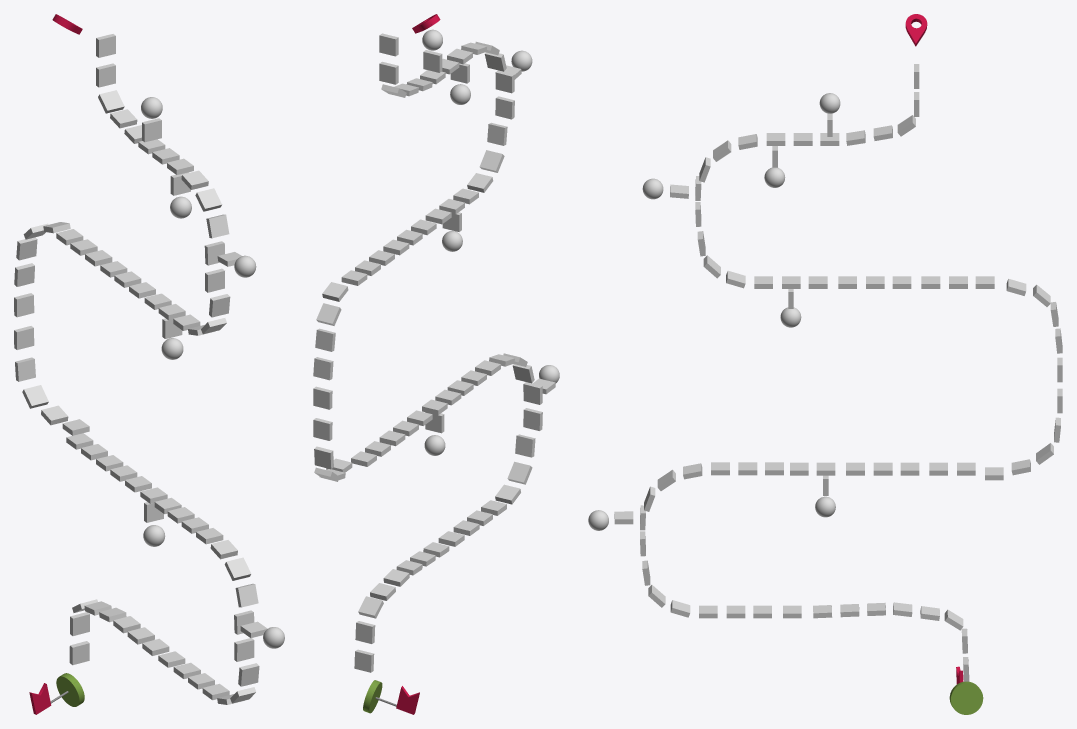
File: mapa.gltf
3 renders of one model, left to right at view 1: azimuth 30°, elevation 25°; view 2: azimuth 150°, elevation 25°; view 3: azimuth 270°, elevation 25°, orthographic. The views are drawn at different scales.
Parts seen in each view (by area): view 1: finish, 59, 15, 42, 41, 14, 3; view 2: finish, 21, 36, 37, 64, 20, 65, 38, 63, 22, 39, 76; view 3: finish.
Part boxes in pixels (<box>): finish: <box>29,673,84,714</box>; 59: <box>235,583,258,607</box>; 15: <box>206,214,229,238</box>; 42: <box>22,385,48,408</box>; 41: <box>15,357,35,381</box>; 14: <box>195,188,221,211</box>; 3: <box>98,90,124,113</box>; finish: <box>363,680,419,714</box>; 21: <box>487,122,507,145</box>; 36: <box>316,303,341,325</box>; 37: <box>315,328,335,351</box>; 64: <box>515,434,535,457</box>; 20: <box>495,96,514,119</box>; 65: <box>507,461,532,484</box>; 38: <box>313,357,333,380</box>; 63: <box>523,408,542,430</box>; 22: <box>479,150,504,172</box>; 39: <box>313,386,332,409</box>; 76: <box>358,596,383,618</box>; finish: <box>949,666,983,714</box>.
Size of the model in its own units: 3.18 by 29.62 by 18.69.
2 materials, 2 textured.
